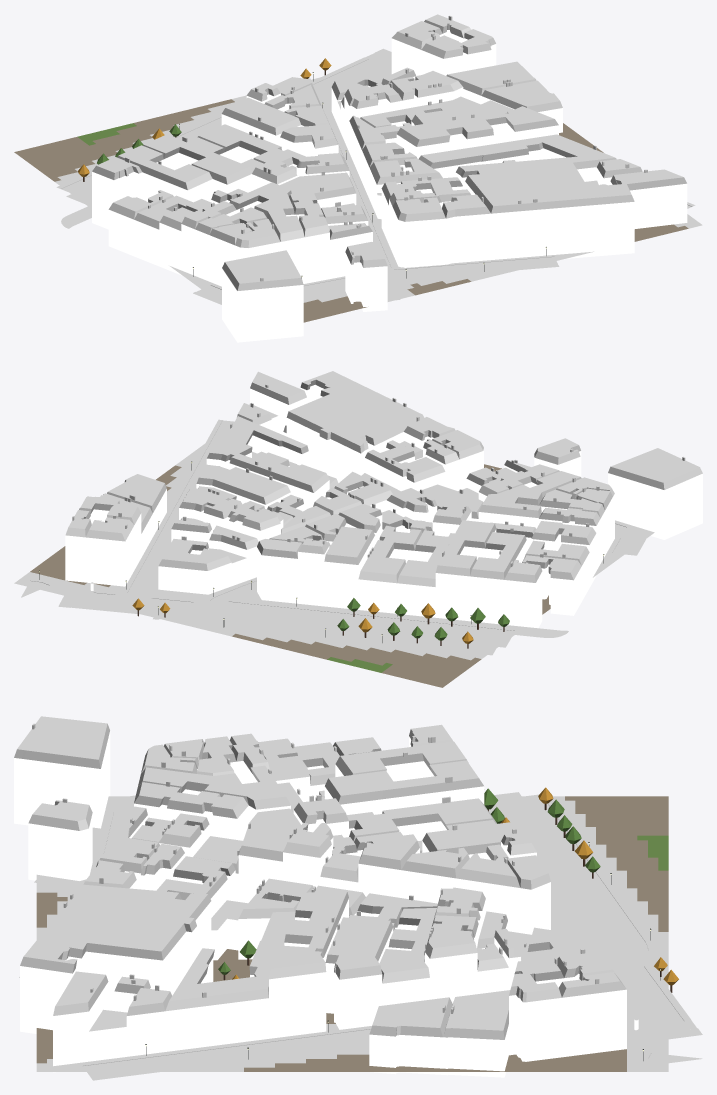
The model's file is zone_F1.glb.
3 renders of one model, top to bottom at view 1: azimuth 30°, elevation 25°; view 2: azimuth 150°, elevation 25°; view 3: azimuth 270°, elevation 25°, orthographic. The views are drawn at different scales.
Parts seen in each view (by area): view 1: zone_F1_batiments, zone_F1_terrain, zone_F1_sol_NOCOL, zone_F1_decor_NOCOL; view 2: zone_F1_batiments, zone_F1_sol_NOCOL, zone_F1_terrain, zone_F1_decor_NOCOL; view 3: zone_F1_batiments, zone_F1_sol_NOCOL, zone_F1_terrain, zone_F1_decor_NOCOL.
Part boxes in pixels (left/top/right/bottom): zone_F1_batiments: left=92, top=14, right=687, bottom=342; zone_F1_terrain: left=14, top=74, right=702, bottom=322; zone_F1_sol_NOCOL: left=56, top=48, right=695, bottom=304; zone_F1_decor_NOCOL: left=78, top=58, right=546, bottom=278; zone_F1_batiments: left=65, top=371, right=702, bottom=628; zone_F1_sol_NOCOL: left=21, top=419, right=650, bottom=655; zone_F1_terrain: left=14, top=444, right=654, bottom=687; zone_F1_decor_NOCOL: left=39, top=461, right=604, bottom=648; zone_F1_batiments: left=14, top=716, right=638, bottom=1077; zone_F1_sol_NOCOL: left=19, top=792, right=702, bottom=1080; zone_F1_terrain: left=36, top=796, right=668, bottom=1071; zone_F1_decor_NOCOL: left=145, top=787, right=678, bottom=1060.
Bounding box in the file's own units: 211 × 27.85 × 199.
